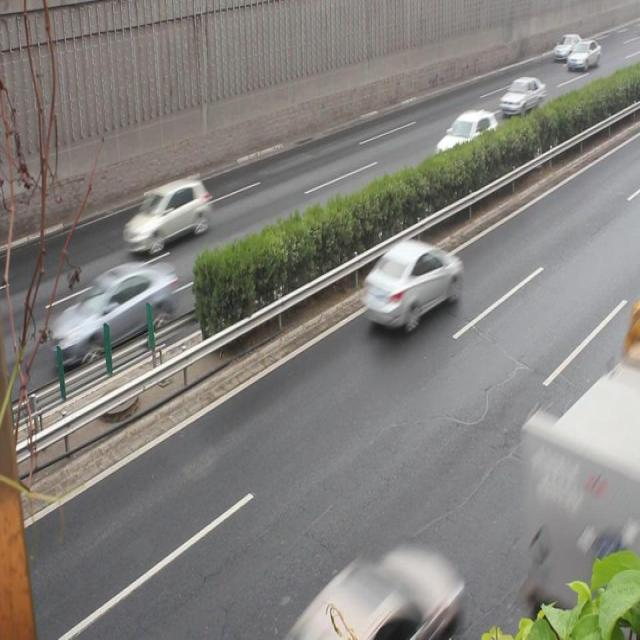bus: (523, 334, 640, 612)
car: (51, 264, 177, 367), (361, 238, 460, 331), (124, 177, 210, 252), (434, 110, 499, 170), (498, 75, 544, 118)
